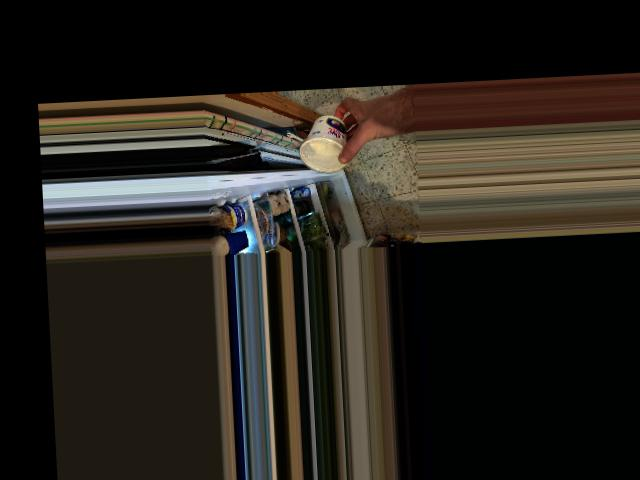cotage: (301, 113, 351, 168)
